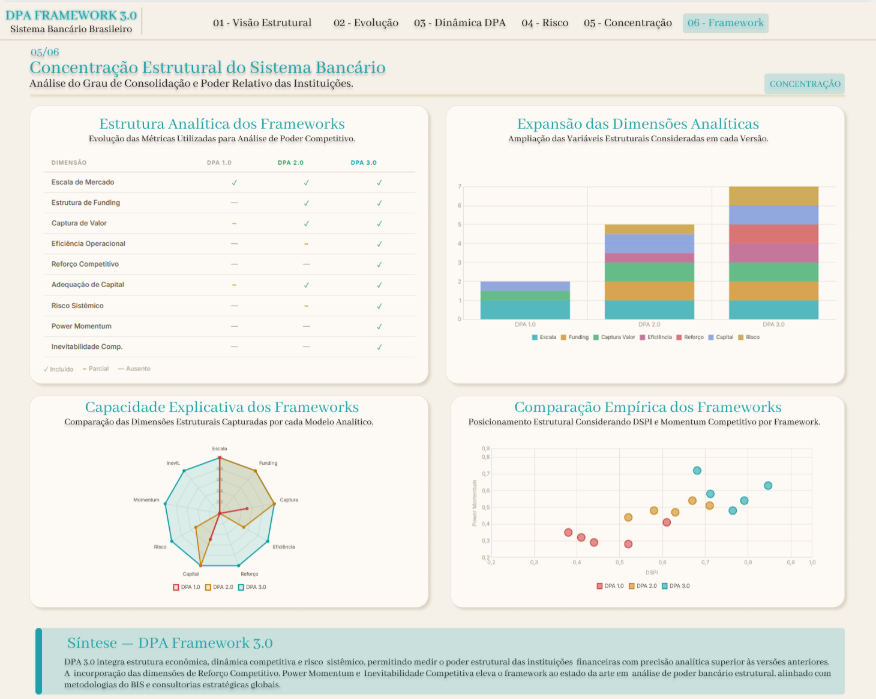

Layout of this report page (visuals, bound fields, positions):
{"tool":"powerbi","page":{"name":"Framework","canvas":[1460,1169],"ordinal":5},"visuals":[{"type":"pageNavigator","box":[342.5,12.5,933.8,48.8],"z":0}]}

Visuals, with their boxes in screenshot pixels (x1, y1, x2, y2), scaled from the page's 1460x1169 canvas onto the 876x699 screenshot:
pageNavigator: <bbox>206, 7, 766, 37</bbox>
